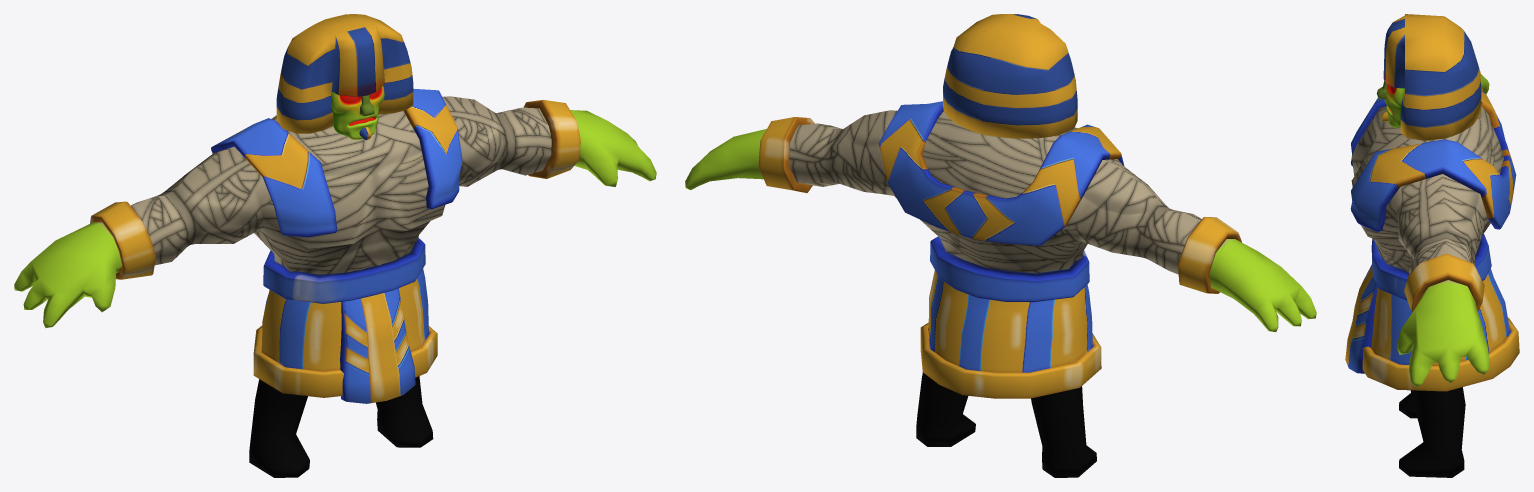
The model's file is Alien Boss_Annunaki.fbx.
The picture shows the model from 3 angles, left to right: view 1: azimuth 30°, elevation 25°; view 2: azimuth 150°, elevation 25°; view 3: azimuth 270°, elevation 25°; orthographic projection. The views are drawn at different scales.
Parts seen in each view (by area): view 1: BODY, HEAD; view 2: BODY, HEAD; view 3: BODY, HEAD.
Boxes of the visible parts, bbox=[...] form: BODY: bbox=[14, 88, 656, 477]; HEAD: bbox=[276, 14, 413, 140]; BODY: bbox=[685, 101, 1316, 477]; HEAD: bbox=[943, 14, 1077, 138]; BODY: bbox=[1345, 74, 1519, 477]; HEAD: bbox=[1376, 14, 1481, 140].
Bounding box in the file's own units: 10.62 × 7.08 × 2.69.
